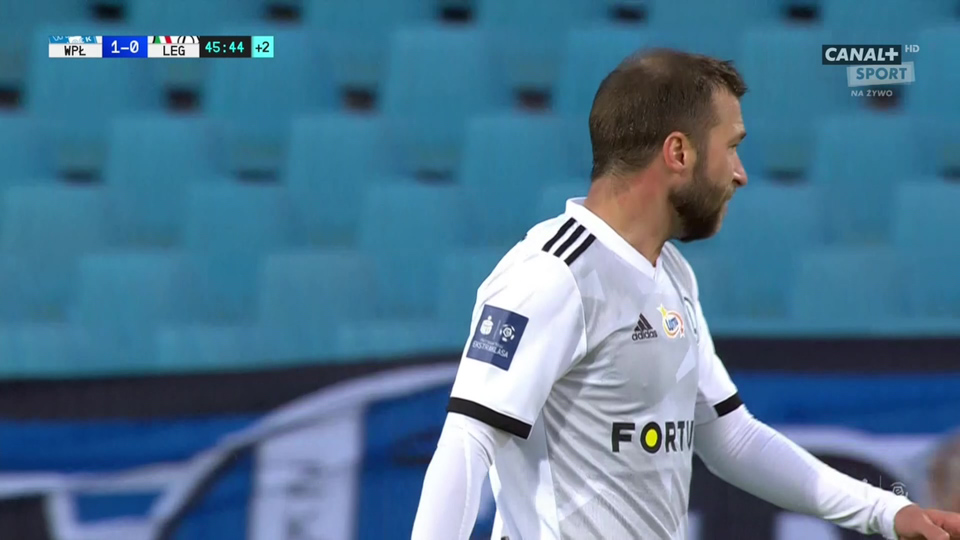Adidas: (630, 312, 660, 341)
